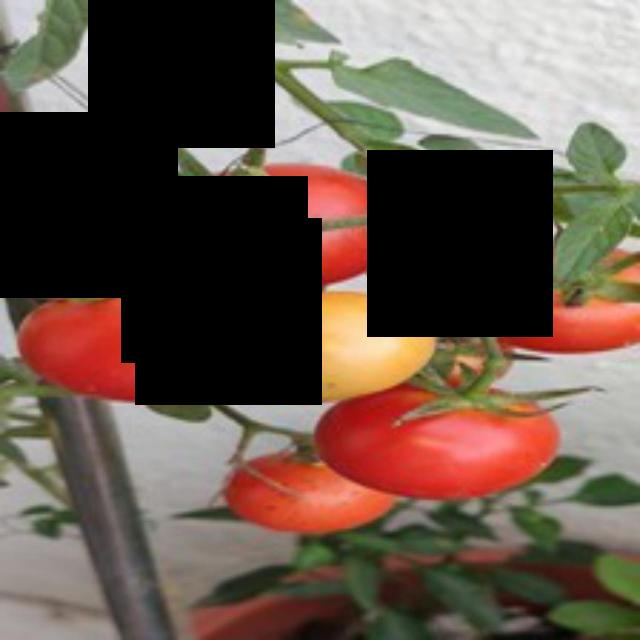tomato: (144, 144, 412, 303), (303, 379, 584, 515), (21, 252, 252, 412), (463, 231, 637, 391)
